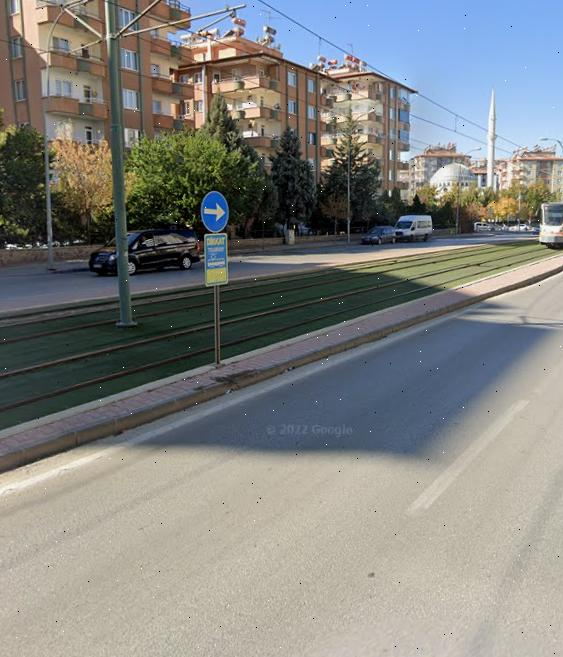turnright: (198, 189, 233, 234)
